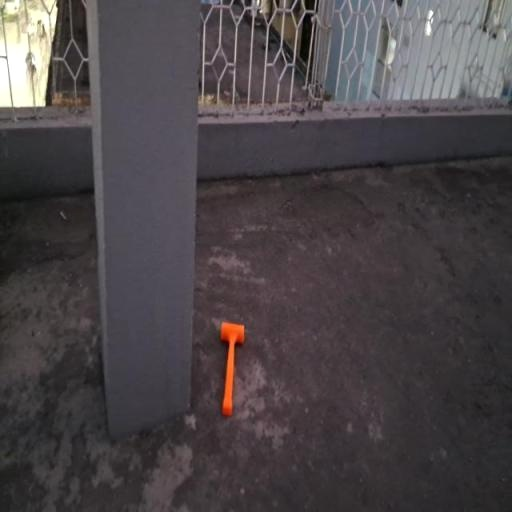mallet: (222, 321, 244, 416)
